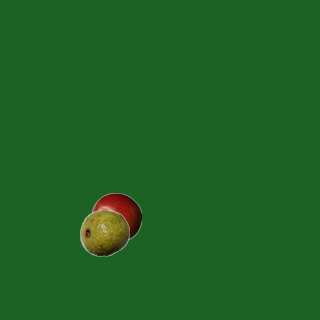Apple Braeburn: (91, 192, 141, 242)
Guava: (79, 207, 129, 257)
